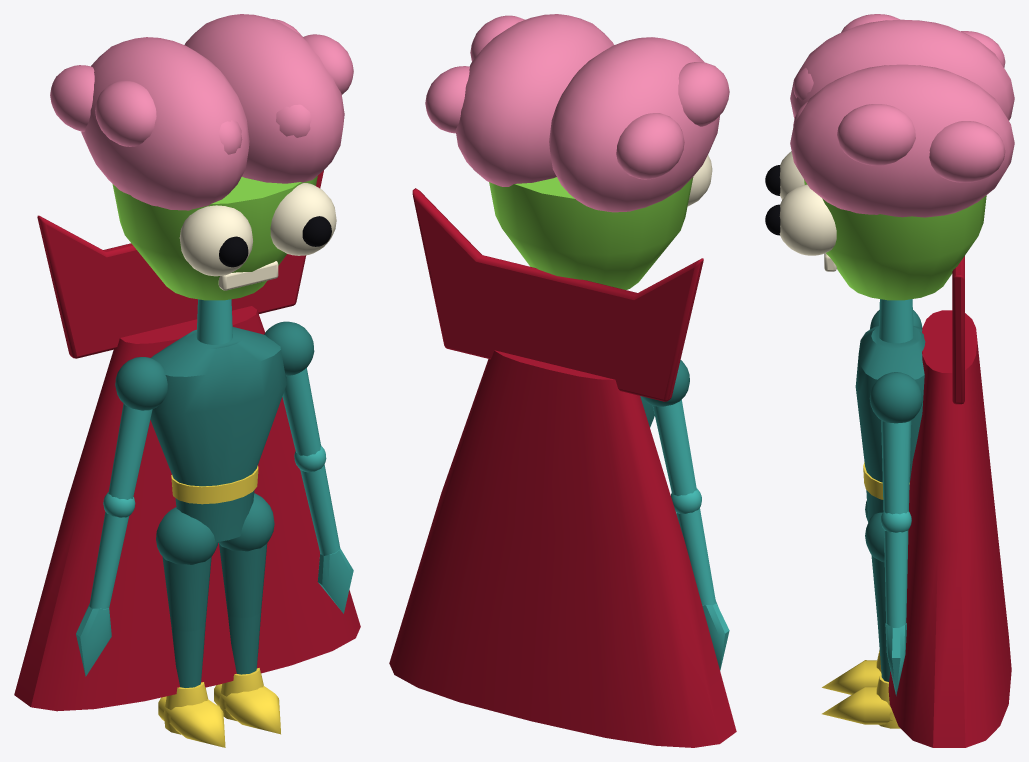
The model's file is alien_spitter.glb.
3 renders of one model, left to right at view 1: azimuth 30°, elevation 25°; view 2: azimuth 150°, elevation 25°; view 3: azimuth 270°, elevation 25°, orthographic. The views are drawn at different scales.
Parts seen in each view (by area): view 1: cape, lobe, torso, lobe.001, collar, face, eye, fold.001, eye.001, thigh, thigh.001, upper (+25 smaller); view 2: cape, collar, lobe, lobe.001, face, fold.003, fold.001, upper, fold.007, lower, hand, fold.005 (+2 smaller); view 3: cape, lobe.001, face, lobe, torso, fold.005, fold.007, eye.001, upper.001, shoulder.001, lower.001, collar (+11 smaller).
Boxes of the visible parts, box(x1,y1,x2,y2) form: cape: box(14, 306, 360, 711); lobe: box(81, 37, 249, 210); torso: box(150, 327, 286, 542); lobe.001: box(184, 14, 344, 183); collar: box(37, 170, 323, 358); face: box(112, 176, 317, 300); eye: box(179, 205, 252, 276); fold.001: box(95, 80, 156, 146); eye.001: box(270, 183, 336, 255); thigh: box(162, 556, 211, 631); thigh.001: box(219, 543, 267, 618); upper: box(108, 403, 152, 499); cape: box(389, 350, 736, 747); collar: box(412, 188, 703, 401); lobe: box(549, 37, 719, 212); lobe.001: box(455, 14, 613, 186); face: box(489, 177, 693, 289); fold.003: box(616, 113, 684, 179); fold.001: box(678, 62, 729, 126); upper: box(652, 399, 696, 495); fold.007: box(425, 66, 469, 133); lower: box(676, 508, 715, 605); hand: box(702, 600, 729, 670); fold.005: box(470, 15, 524, 61); cape: box(888, 310, 1011, 747); lobe.001: box(790, 64, 1014, 217); face: box(804, 179, 986, 300); lobe: box(790, 19, 1014, 120); torso: box(855, 326, 925, 522); fold.005: box(837, 104, 915, 165); fold.007: box(929, 121, 1005, 182); eye.001: box(779, 184, 836, 255); upper.001: box(881, 420, 911, 514); shoulder.001: box(869, 372, 922, 423); lower.001: box(884, 530, 908, 627); collar: box(952, 256, 964, 404).
Bounding box in the file's own units: 1.19 × 2.33 × 0.8.
